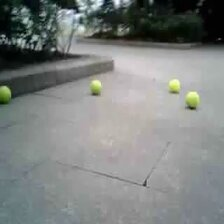tennis: (184, 91, 200, 108), (1, 85, 12, 104), (168, 78, 180, 93), (90, 79, 101, 95)
